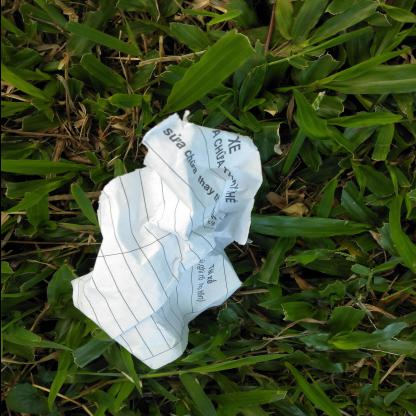kagit: (67, 113, 263, 370)
